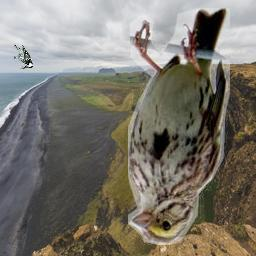Sparrow: (128, 9, 230, 246)
Woodpecker: (15, 45, 34, 70)
